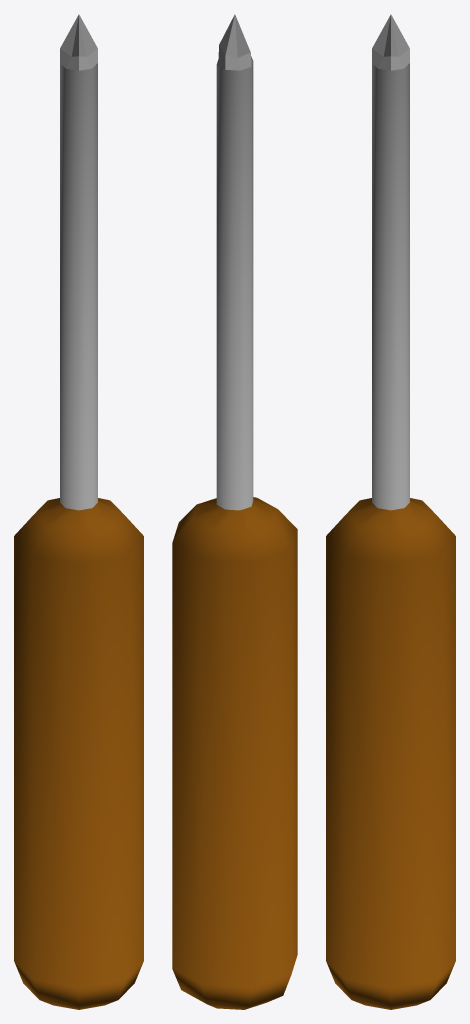
Rendered from ScrewDriver.glb.
The picture shows the model from 3 angles, left to right: view 1: azimuth 90°, elevation 25°; view 2: azimuth 150°, elevation 25°; view 3: azimuth 270°, elevation 25°; orthographic projection.
Parts seen in each view (by area): view 1: Screwdriver; view 2: Screwdriver; view 3: Screwdriver.
Part boxes in pixels (x1,y1,x2,y2): Screwdriver: (14,14,143,1009); Screwdriver: (172,14,297,1009); Screwdriver: (326,14,455,1009).
Size of the model in its own units: 0.5257 by 4.38 by 0.5257.
